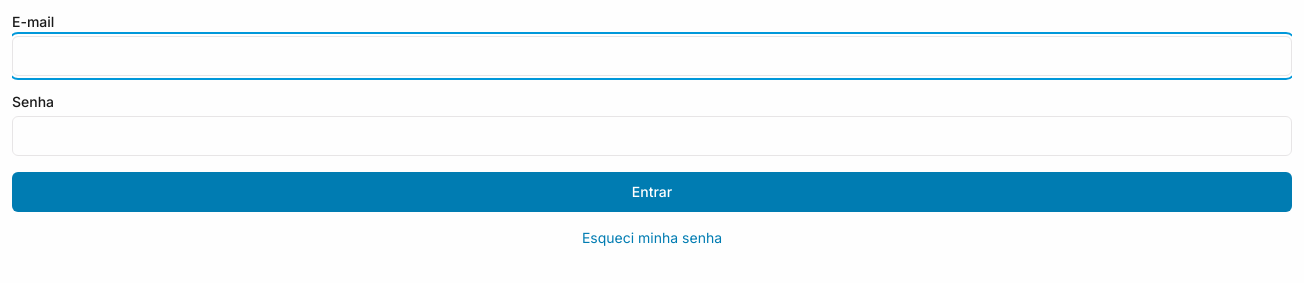
LoginForm › recusa e-mail mal formado
Type "alice" into the field labelled "E-mail". click: (652, 56)
box: [12, 36, 1292, 76]
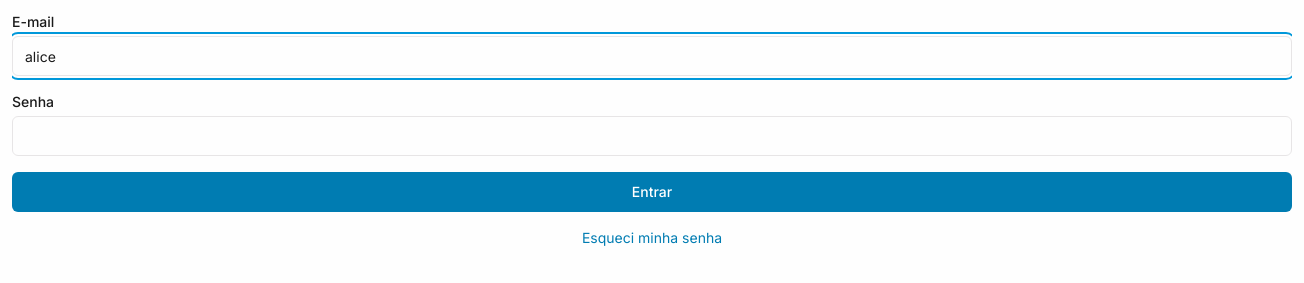
Type "12345678" into the password field labelled "Senha". click: (652, 136)
box: [12, 116, 1292, 156]
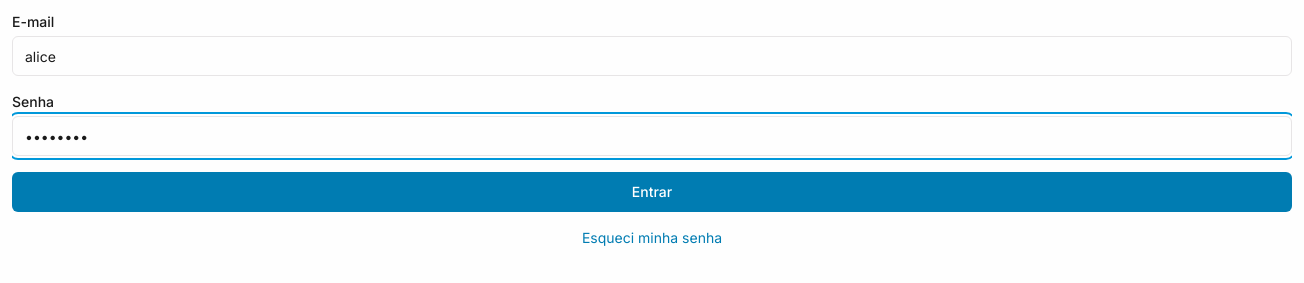
Click the button "Entrar". click: (652, 192)
box: [12, 172, 1292, 212]
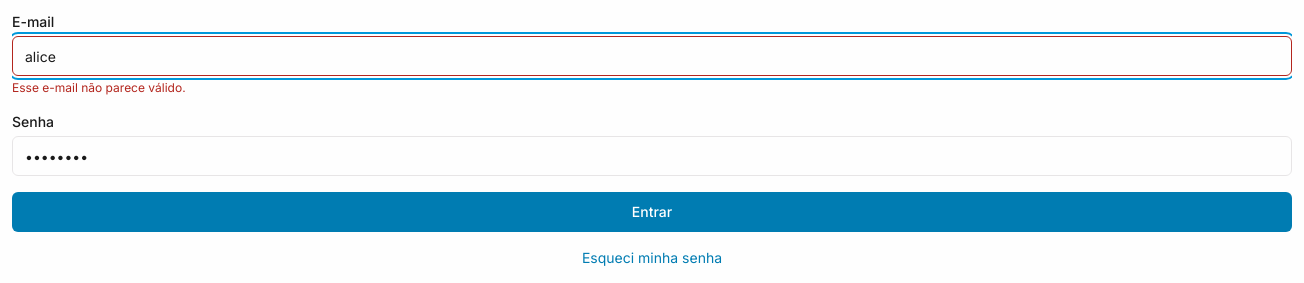
Now the text "Esse e-mail não parece válido." is shown, box [12, 80, 186, 95]
